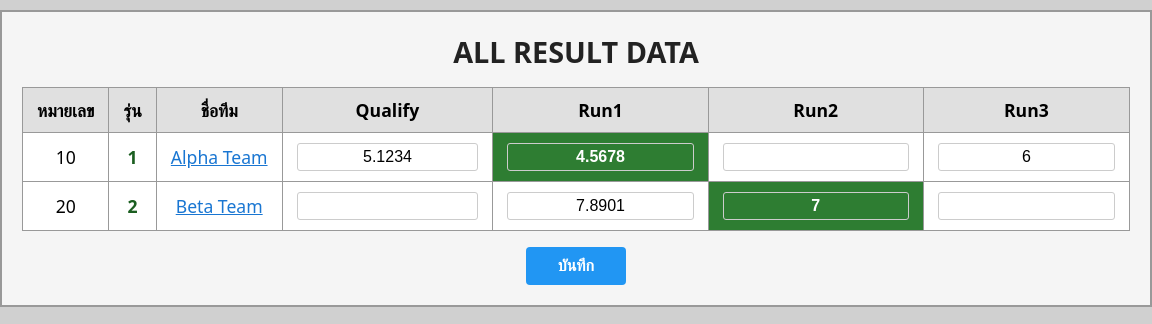
Test: AllTeamsTable › shows error message on save failure
Click the button "บันทึก".
click(576, 266)  # box [526,247,626,285]
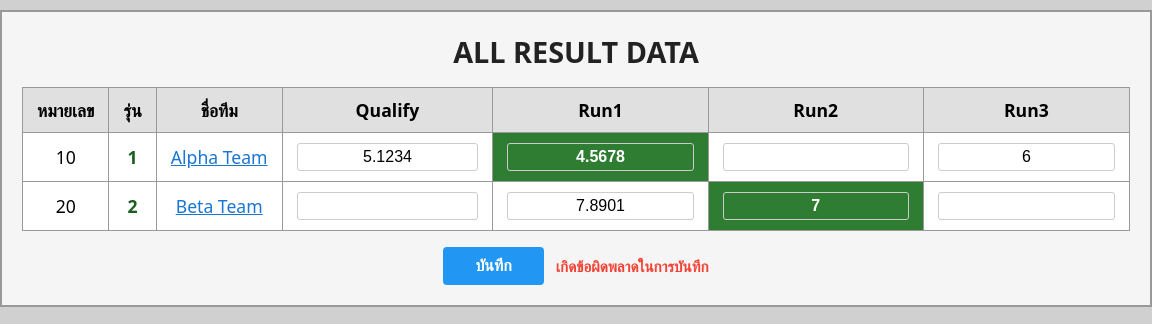
Now the text "เกิดข้อผิดพลาดในการบันทึก" is shown, box [556,256,708,276]
